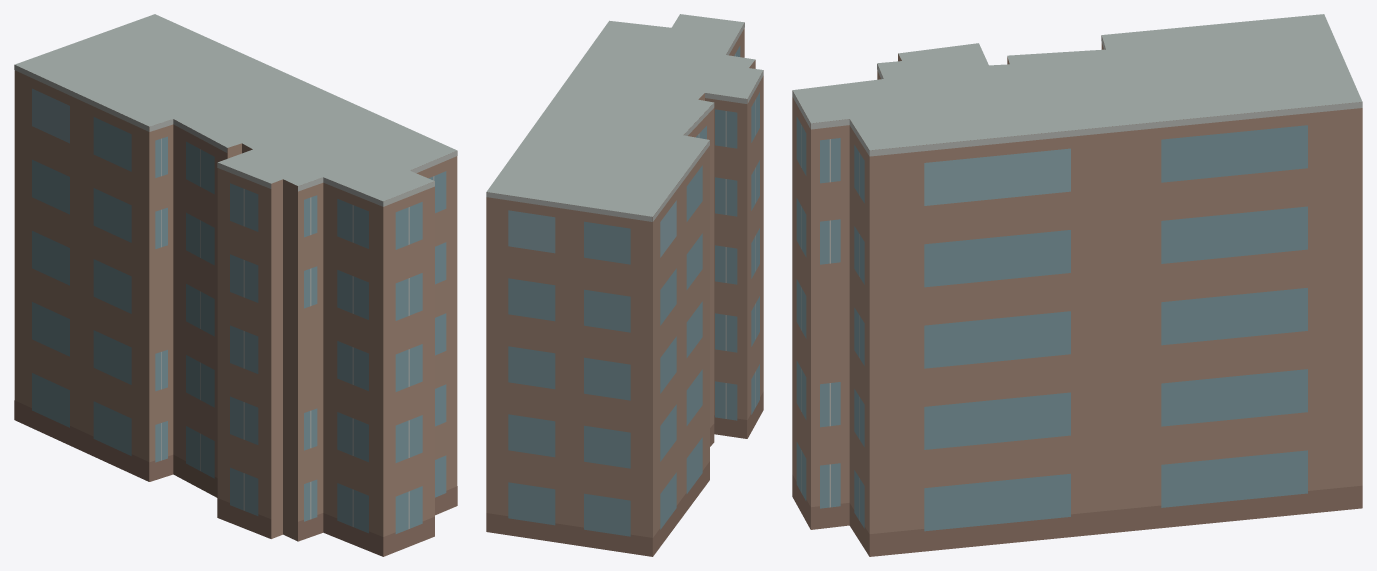
Rendered from survey-upis-33041489.glb.
The picture shows the model from 3 angles, left to right: view 1: azimuth 30°, elevation 25°; view 2: azimuth 150°, elevation 25°; view 3: azimuth 270°, elevation 25°; orthographic projection. The views are drawn at different scales.
Visible parts, largest first — view 1: survey-upis-33041489.tmp; view 2: survey-upis-33041489.tmp; view 3: survey-upis-33041489.tmp.
Part boxes in pixels (x1,y1,x2,y2): survey-upis-33041489.tmp: (14, 14, 457, 556); survey-upis-33041489.tmp: (486, 14, 763, 556); survey-upis-33041489.tmp: (792, 14, 1362, 556).
Size of the model in its own units: 11.52 by 16 by 20.35.
